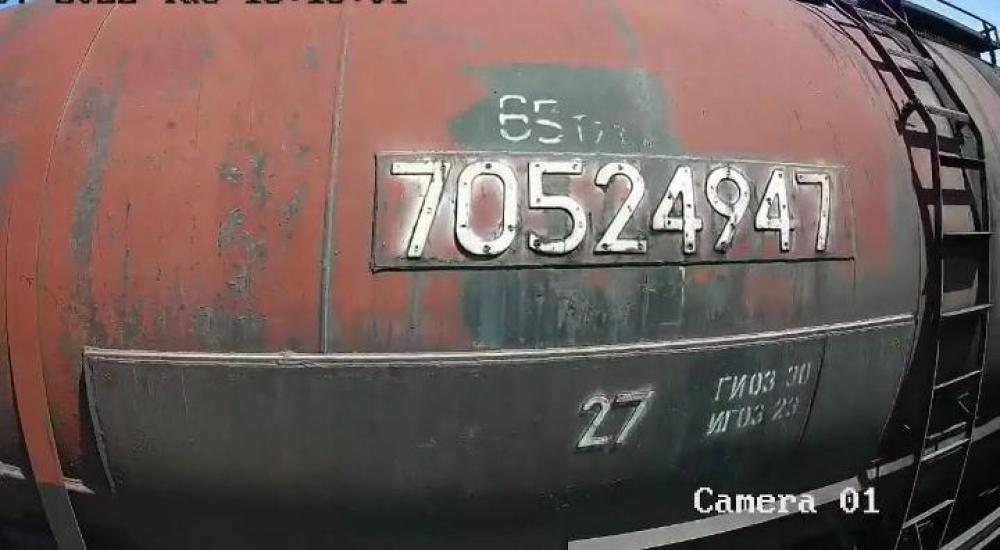Wagon-number: (383, 153, 841, 261)
